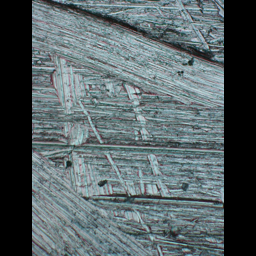d: (33, 0, 223, 254)
